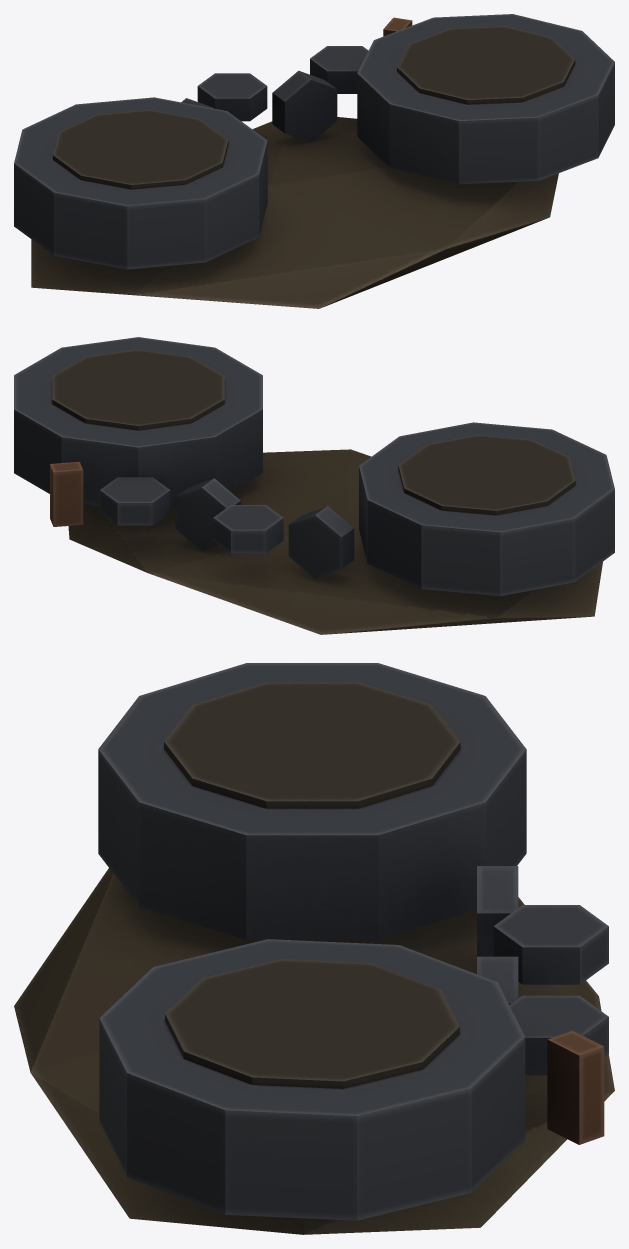
The model's file is sign_ogre_shackles.glb.
3 views of the same model, one above another, from view 1: azimuth 30°, elevation 25°; view 2: azimuth 150°, elevation 25°; view 3: azimuth 270°, elevation 25° (orthographic). The views are drawn at different scales.
Visible parts, largest first — view 1: sign_ogre_shackles; view 2: sign_ogre_shackles; view 3: sign_ogre_shackles.
Boxes of the visible parts, left/top/right/bottom form: sign_ogre_shackles: left=14, top=14, right=614, bottom=308; sign_ogre_shackles: left=14, top=337, right=614, bottom=634; sign_ogre_shackles: left=14, top=663, right=614, bottom=1234.
Size of the model in its own units: 1.3 by 0.2884 by 0.7297.
Materials: 1 (1 with a texture image).
